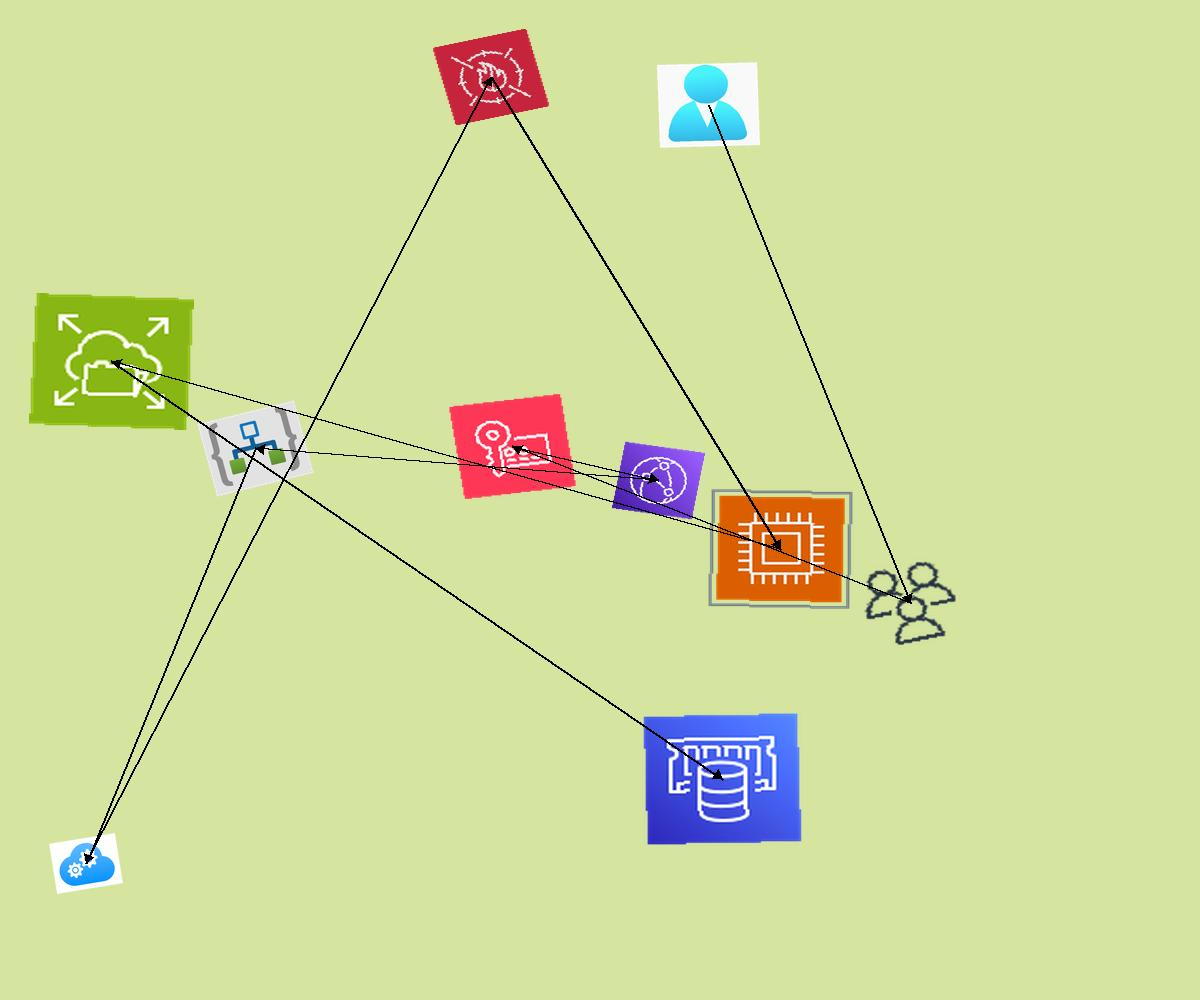AWS-Category_Compute: (707, 488, 854, 610)
AWS-CloudFront: (611, 441, 706, 520)
AWS-EFS: (29, 293, 194, 430)
AWS-ElastiCache: (642, 712, 803, 846)
AWS-Key-Management-Service: (448, 393, 577, 500)
AWS-Res_Users: (848, 552, 972, 655)
AWS-WAF: (432, 28, 550, 126)
Azure_cloud_services: (49, 833, 123, 894)
Azure_integration-204-Logic-Apps: (197, 400, 314, 497)
Azure_users: (657, 62, 760, 148)
